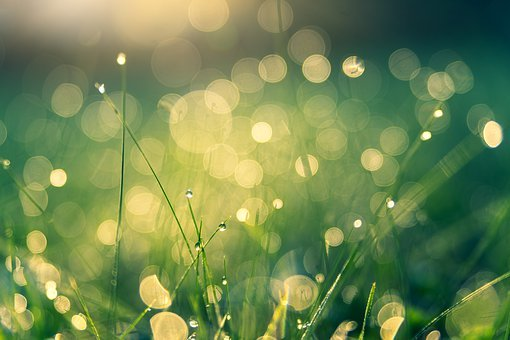forest: (15, 16, 477, 340)
